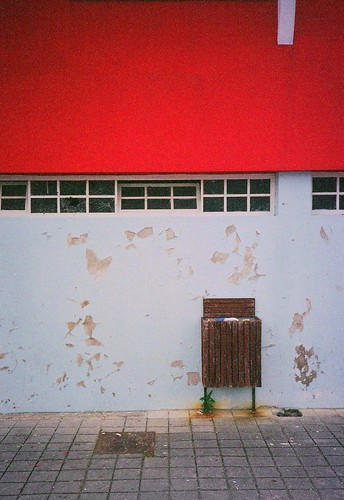building: (1, 1, 336, 396)
trash can: (197, 297, 270, 408)
window: (3, 166, 275, 218)
